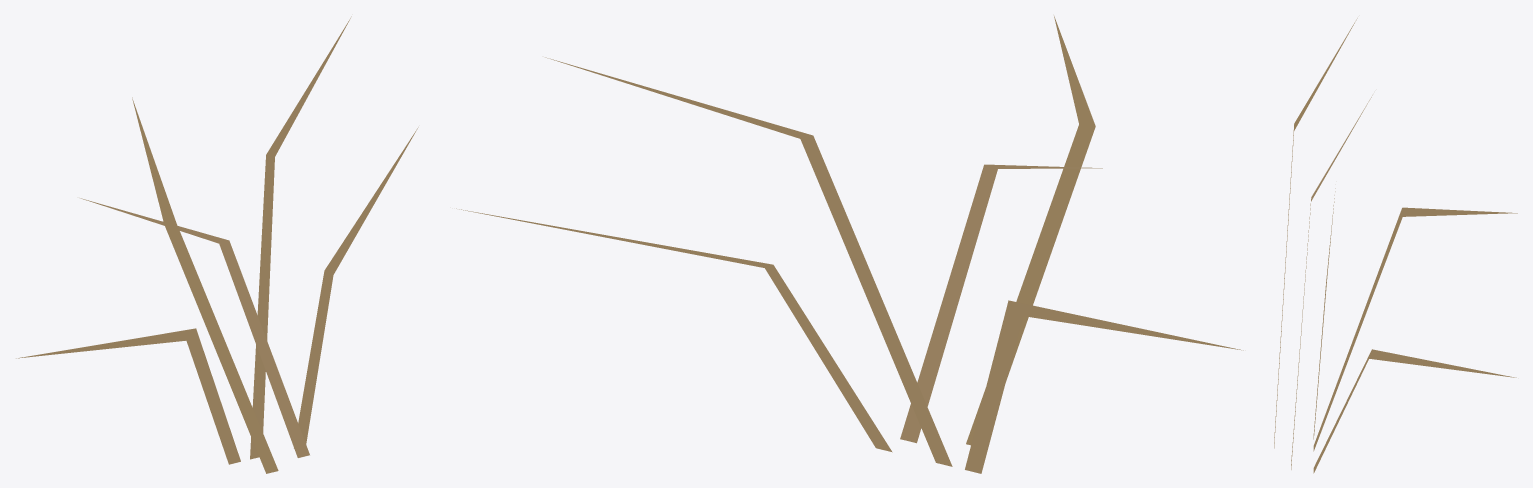
The model's file is Grass_h_OneS_04.fbx.
3 views of the same model, side by side, from view 1: azimuth 30°, elevation 25°; view 2: azimuth 150°, elevation 25°; view 3: azimuth 270°, elevation 25° (orthographic). The views are drawn at different scales.
Visible parts, largest first — view 1: Grass_h_OneS_04; view 2: Grass_h_OneS_04; view 3: Grass_h_OneS_04.
Part boxes in pixels (x1,y1,x2,y2): Grass_h_OneS_04: (16,16,418,473); Grass_h_OneS_04: (456,16,1243,473); Grass_h_OneS_04: (1274,18,1517,473).
Bounding box in the file's own units: 0.5627 × 0.4032 × 0.2334.
